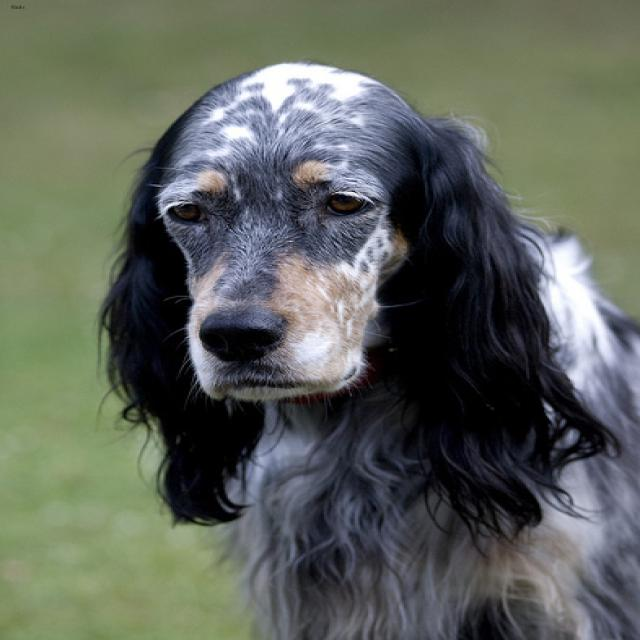dog-english_setter: (85, 51, 637, 637)
